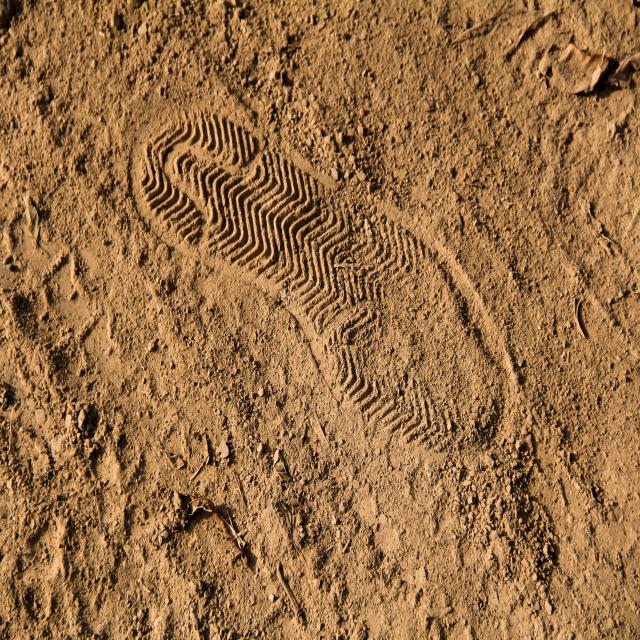human_footprint: (116, 88, 529, 468)
